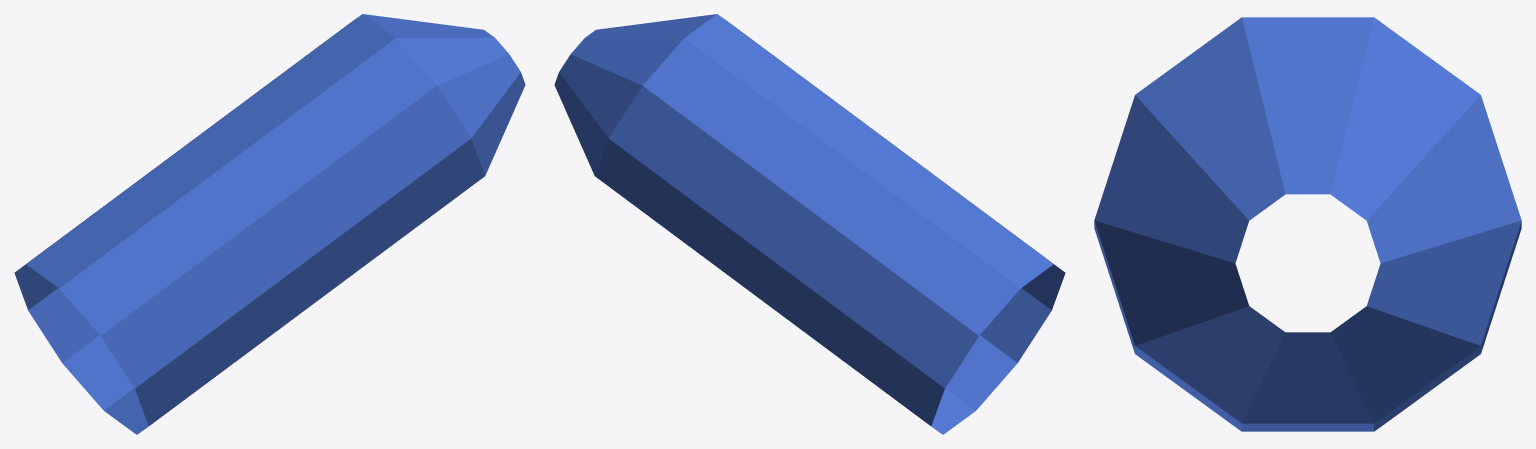
File: Mothership_02_Joint_Blue.fbx
3 views of the same model, side by side, from view 1: azimuth 30°, elevation 25°; view 2: azimuth 150°, elevation 25°; view 3: azimuth 270°, elevation 25° (orthographic). The views are drawn at different scales.
Visible parts, largest first — view 1: Mothership_02_Joint_Blue; view 2: Mothership_02_Joint_Blue; view 3: Mothership_02_Joint_Blue.
Boxes of the visible parts, x1,y1,x2,y2 form: Mothership_02_Joint_Blue: (14, 14, 525, 434); Mothership_02_Joint_Blue: (554, 14, 1065, 434); Mothership_02_Joint_Blue: (1094, 17, 1521, 431).
Bounding box in the file's own units: 231 × 155 × 90.16.
1 material, 1 textured.
